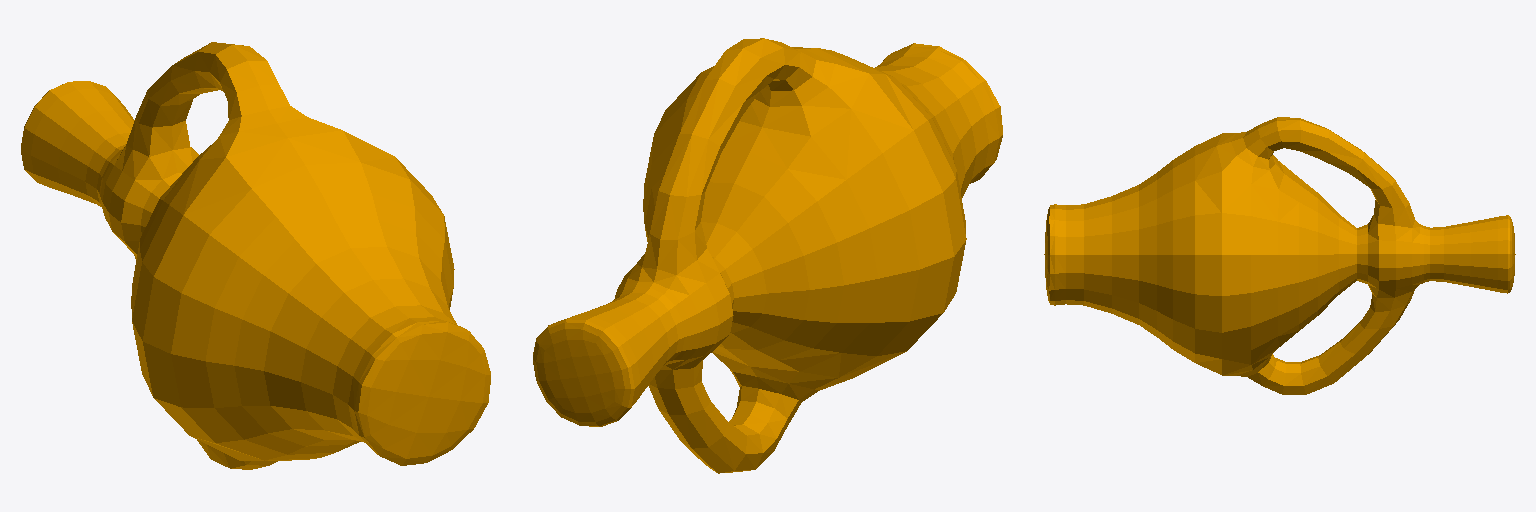
URDF robot description (63):
<?xml version="1.0" ?>
<robot name="63">
  <link name="body">
    <visual>
      <geometry>
        <mesh filename="../shapes/63.obj"/>
      </geometry>
    </visual>
    <collision>
      <geometry>
        <mesh filename="../shapes/63.obj"/>
      </geometry>
    </collision>
  </link>
</robot>

--- What the picture shows (computed from the rendered views, not written in the file) ---
Views: 3 orthographic renders of the robot side by side, from view 1: azimuth 30°, elevation 25°; view 2: azimuth 150°, elevation 25°; view 3: azimuth 270°, elevation 25°.
Robot: 63 — 1 links, 0 joints (none); root link body; default pose: all joints at 0.
Links seen in each view (by area): view 1: body; view 2: body; view 3: body.
Link boxes in pixels (<box>): body: <box>21,42,490,469</box>; body: <box>533,38,1002,473</box>; body: <box>1044,117,1515,394</box>.
Bounding box of the posed robot: 5.93 × 12.44 × 7.94 m (x, y, z).
1 mesh visuals loaded from 1 distinct referenced files (1 OBJ).